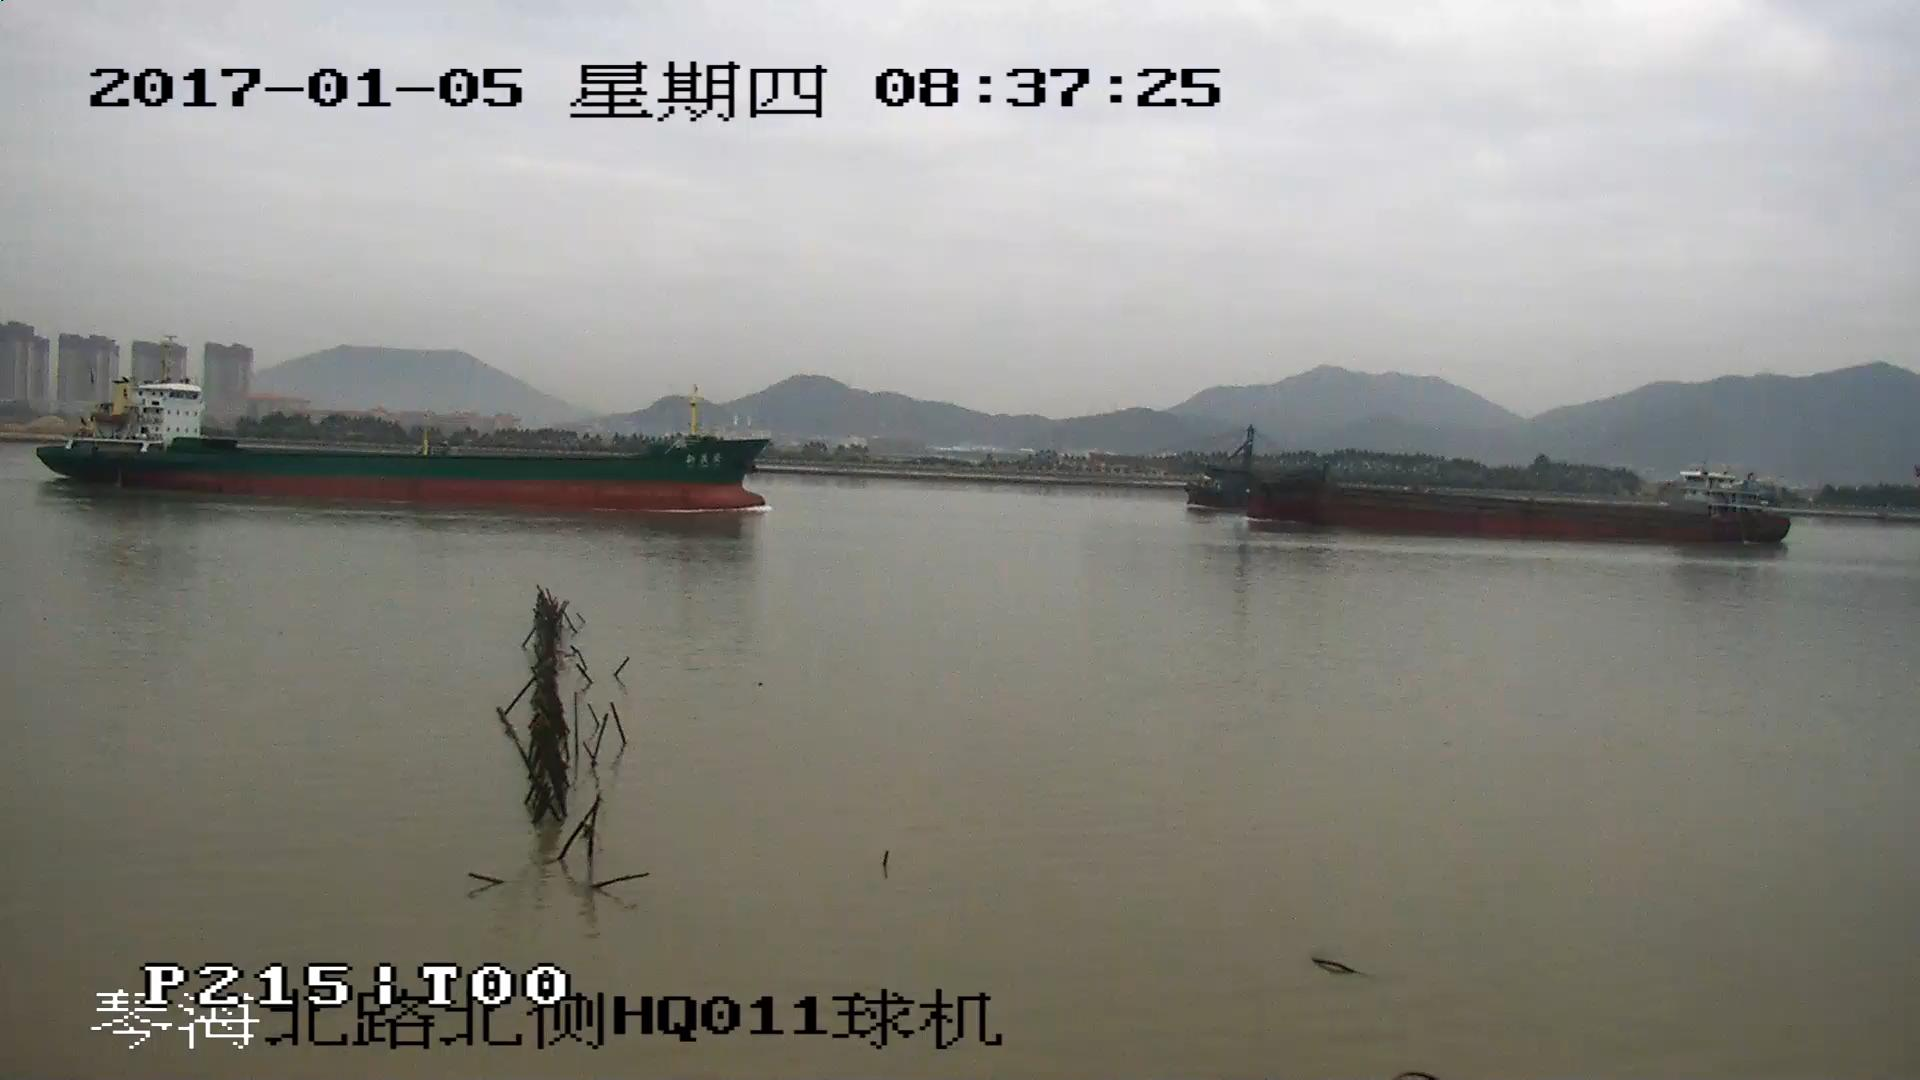bulk cargo carrier: (1182, 428, 1790, 547)
general cargo ship: (39, 331, 770, 512)
